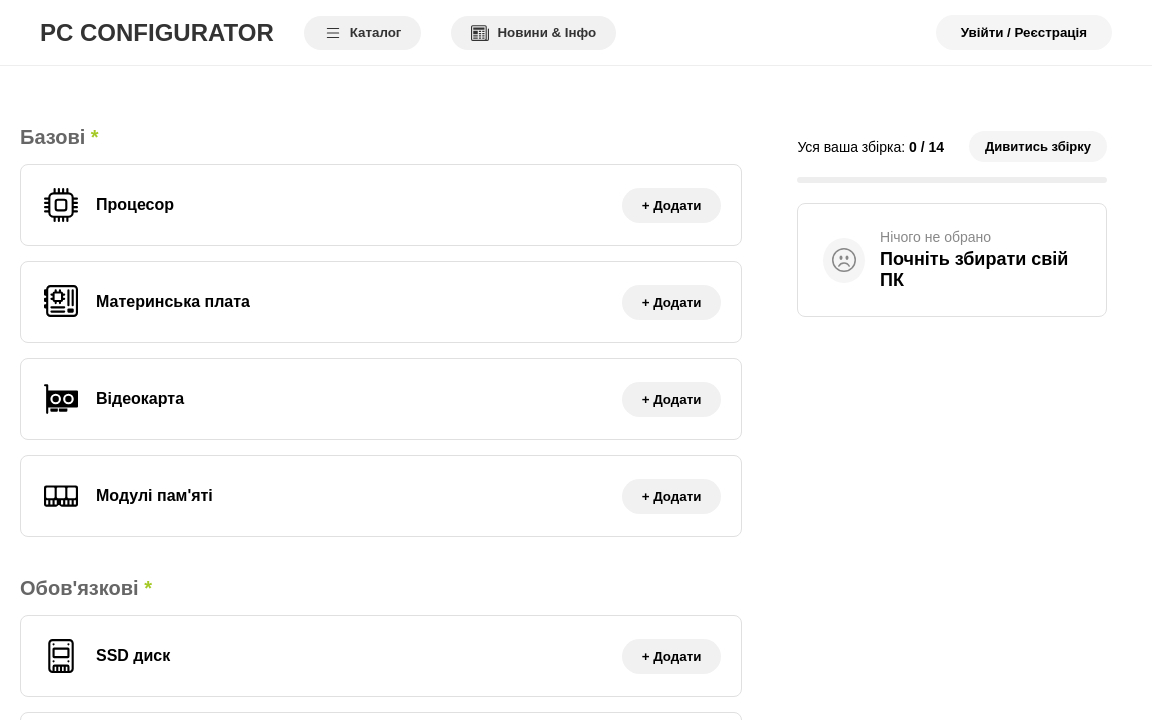
Test: ConfiguratorPage › opens auth modal if unauthenticated user tries to save a valid build
The width and height of the screenshot is (1152, 720).
Click the text "Процесор".
click(135, 205)  # box [96, 196, 174, 214]
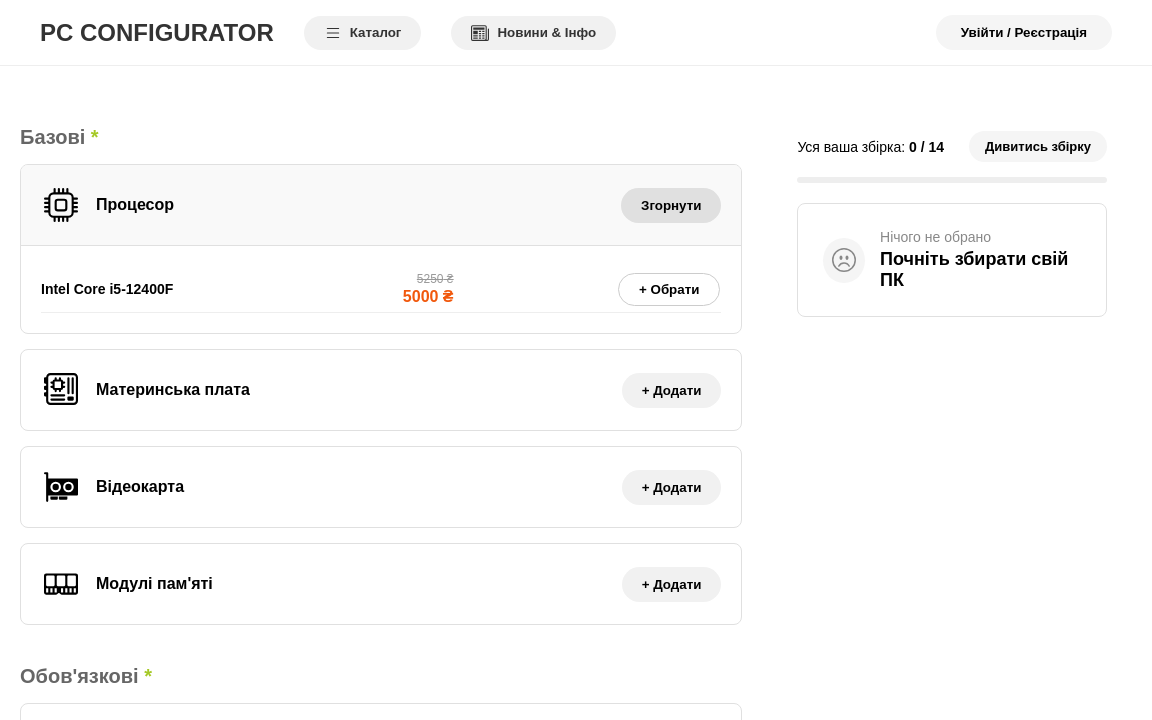
Click the button "+ Обрати".
click(669, 289)  # box [618, 272, 720, 306]
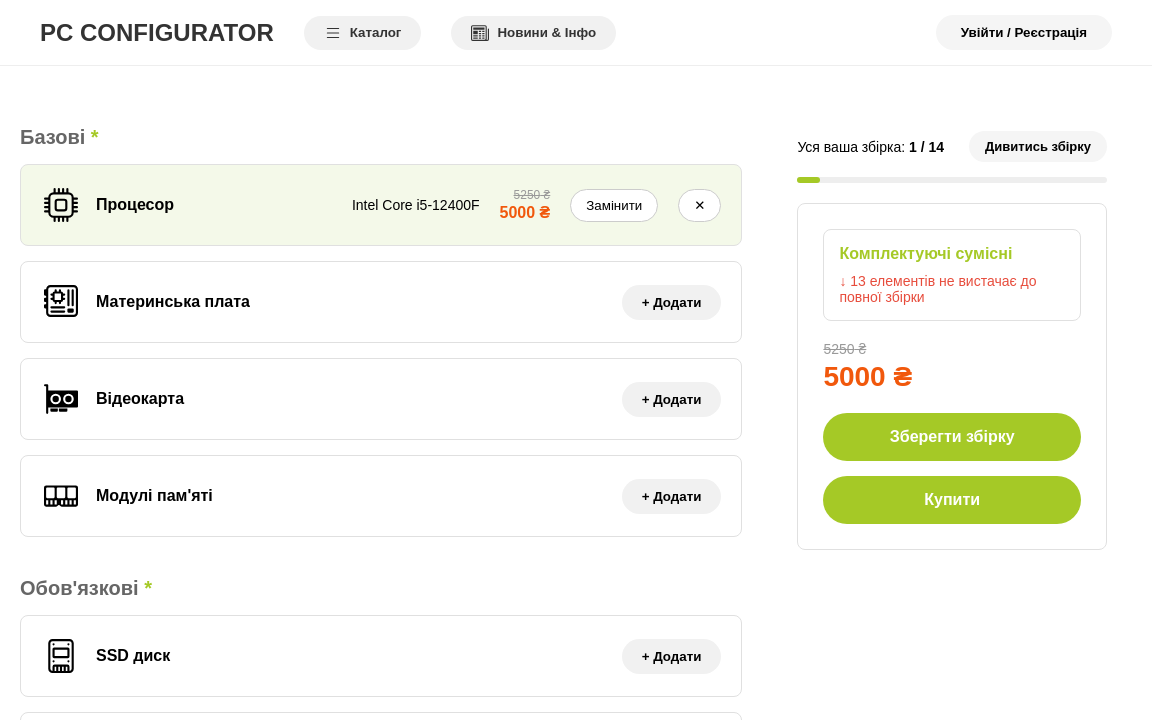
Click the button "Зберегти збірку".
click(952, 437)  # box [823, 413, 1081, 461]
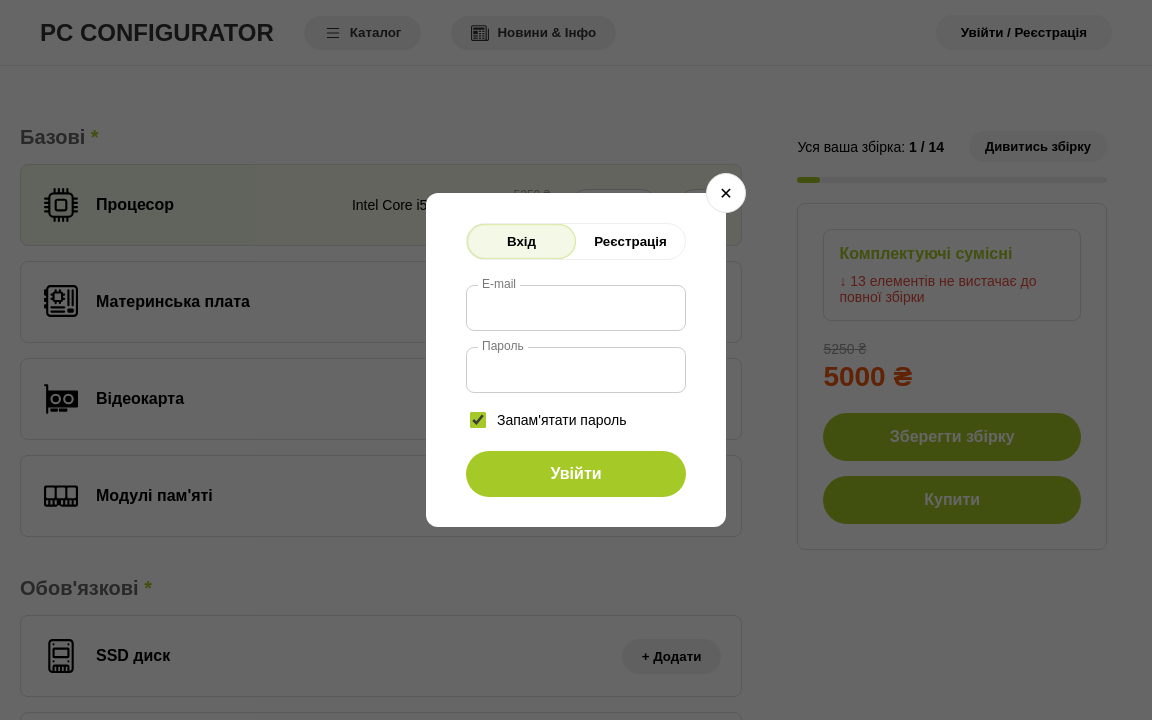
Expected: the button "Вхід" is shown, [467, 224, 576, 259]
